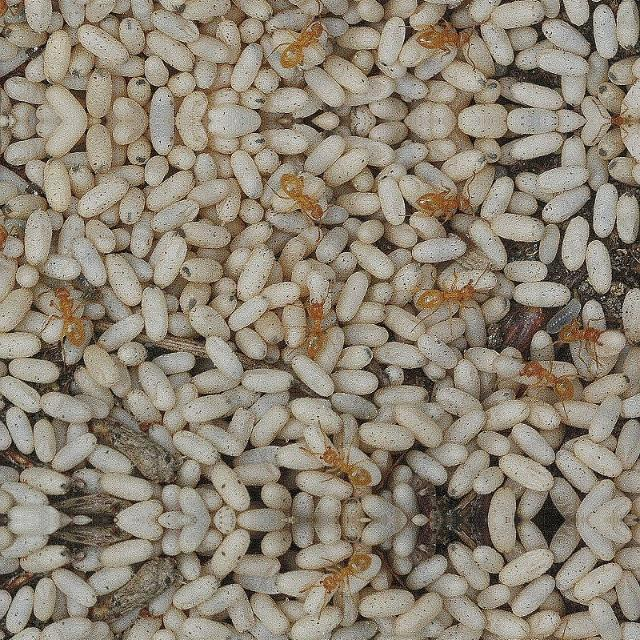Lasius: (296, 544, 378, 618), (296, 421, 378, 494), (280, 280, 348, 368), (408, 263, 476, 333), (277, 168, 343, 228), (277, 12, 343, 72), (402, 170, 478, 222), (402, 19, 478, 70), (49, 275, 93, 357), (519, 348, 577, 410), (560, 306, 610, 358), (0, 195, 32, 253), (0, 0, 32, 44)
